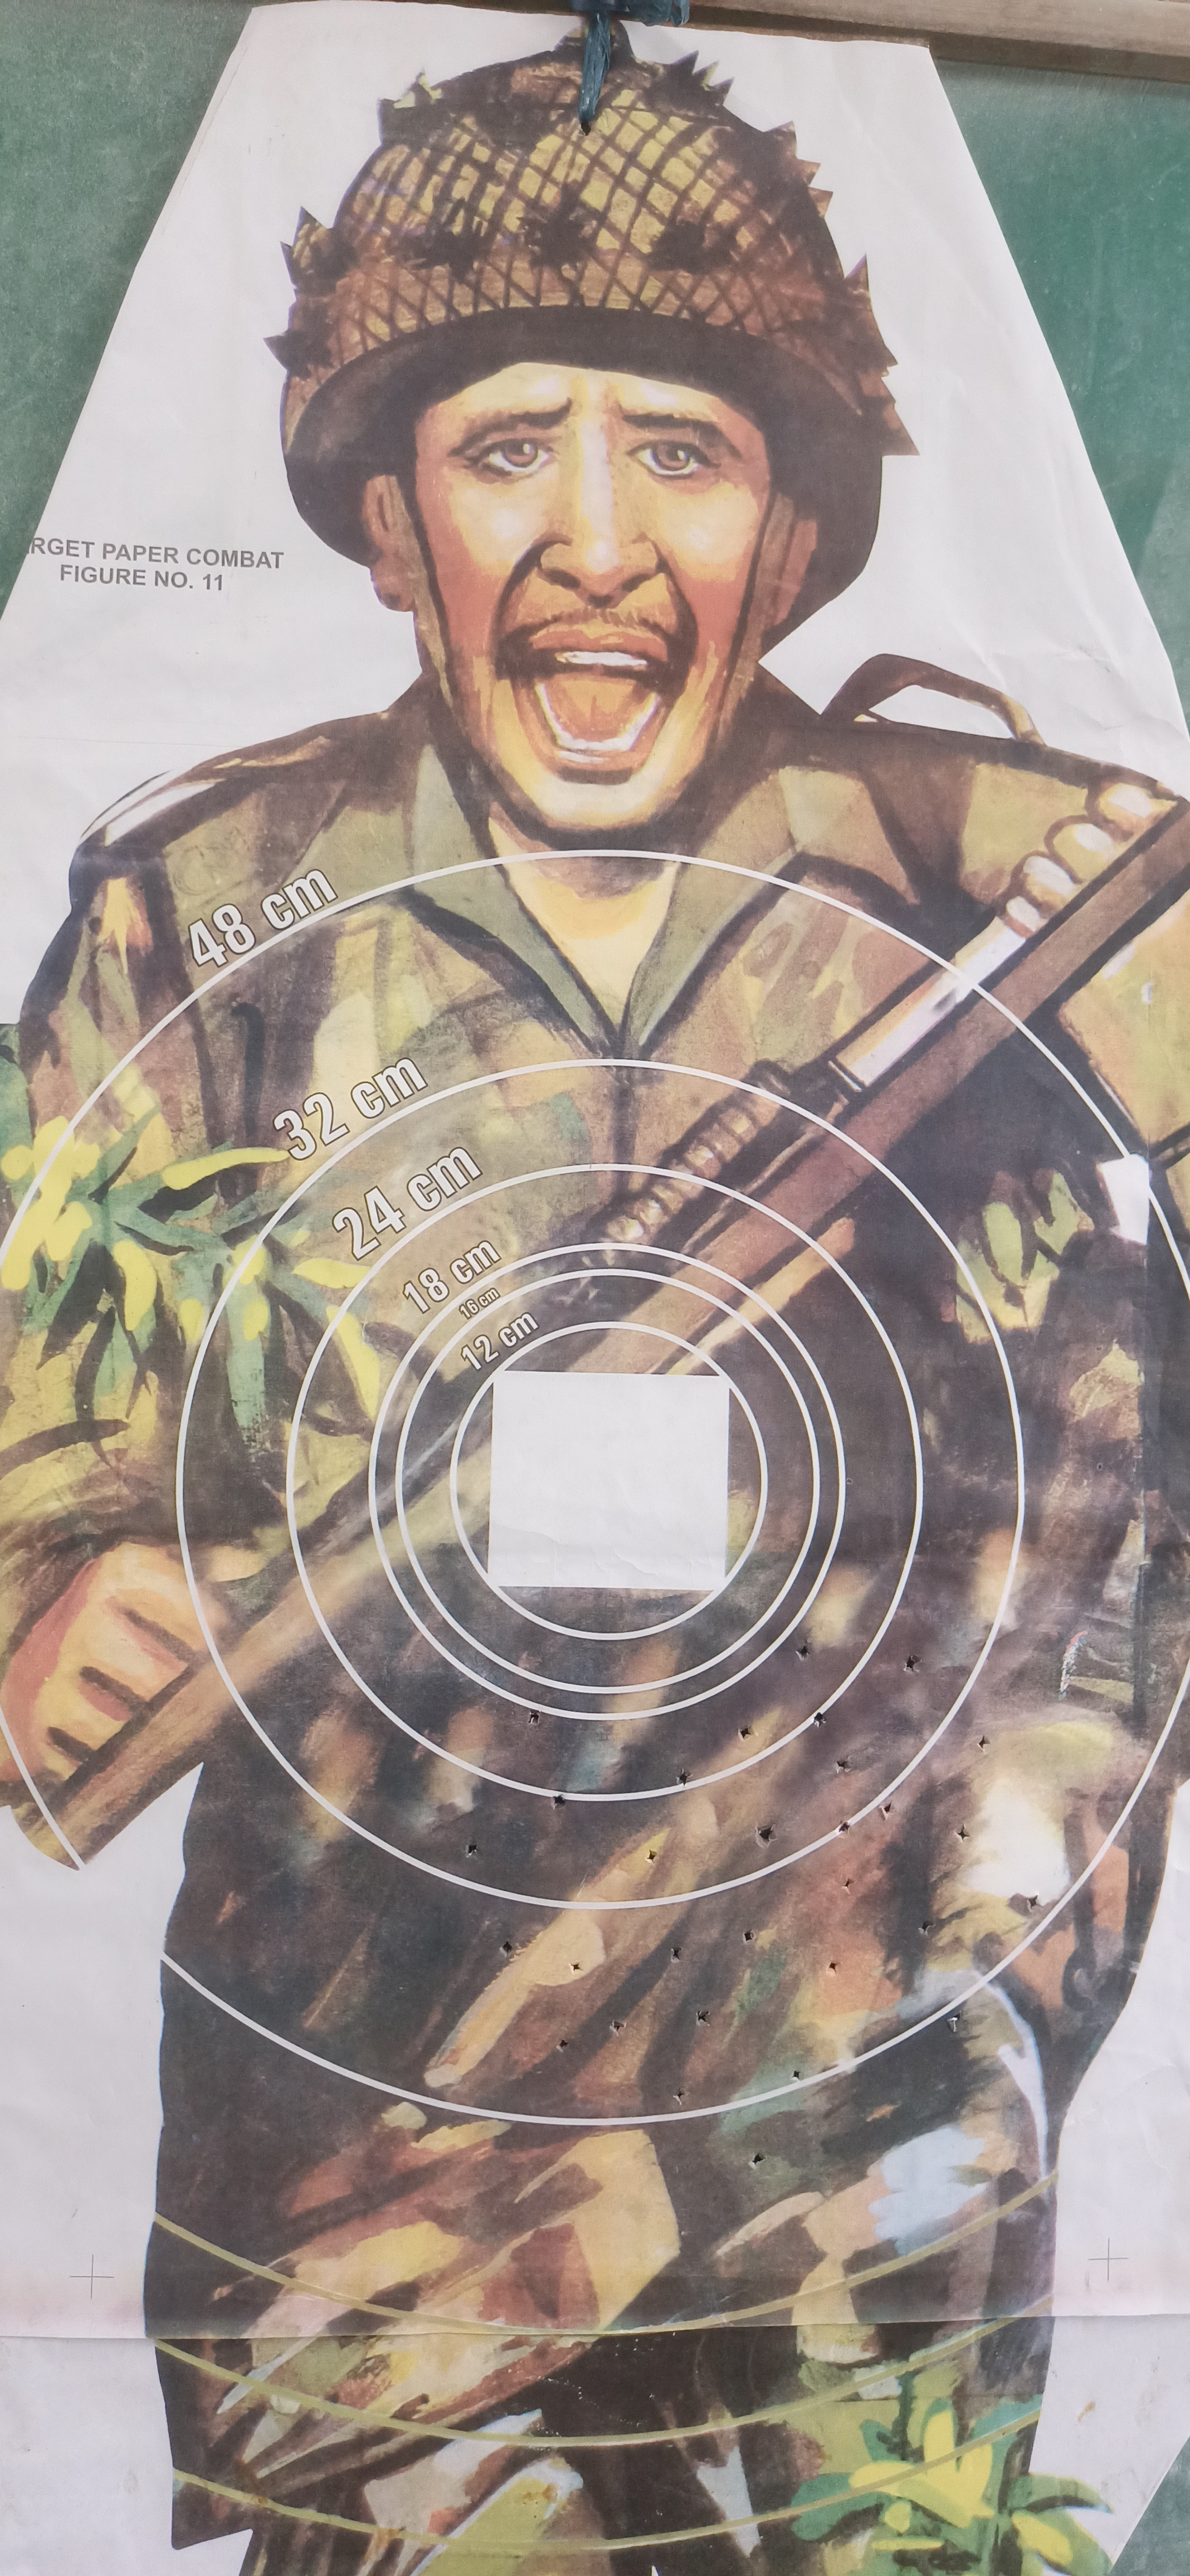bullet hit: (753, 1822, 781, 1848), (901, 1651, 924, 1676), (945, 2009, 965, 2034), (674, 1766, 694, 1787), (878, 1801, 897, 1822), (607, 2017, 628, 2037), (671, 2086, 690, 2106), (736, 1723, 756, 1743), (1024, 1893, 1044, 1912), (526, 1707, 544, 1727), (643, 1847, 661, 1866), (810, 1710, 828, 1730), (953, 1824, 973, 1842), (551, 1792, 569, 1810), (794, 1644, 812, 1663), (740, 1927, 758, 1945), (567, 1958, 585, 1976), (825, 1958, 843, 1976), (975, 1733, 991, 1753), (833, 1758, 853, 1774), (750, 2150, 768, 2167), (464, 1842, 480, 1860), (498, 1940, 514, 1958), (917, 1919, 935, 1935), (695, 2009, 712, 2027), (837, 1819, 853, 1835), (840, 1876, 856, 1893), (554, 2037, 570, 2054), (669, 1945, 684, 1963), (789, 2067, 804, 2083)
white box: (487, 1370, 730, 1590)
